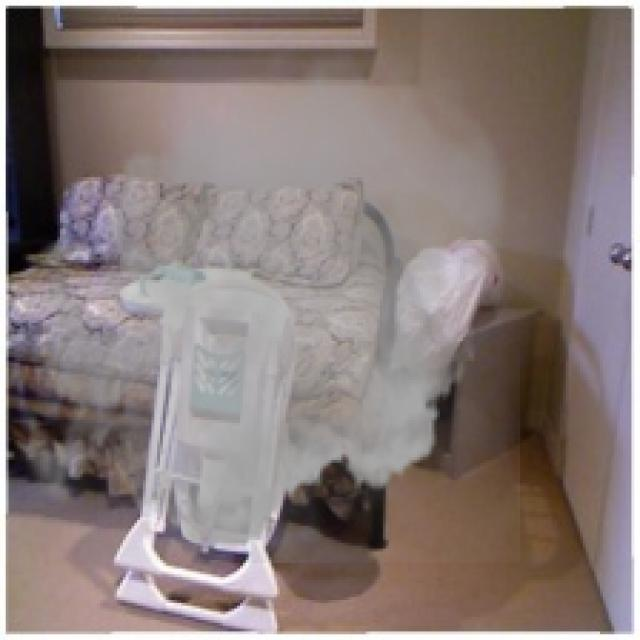smoke: (3, 34, 520, 563)
